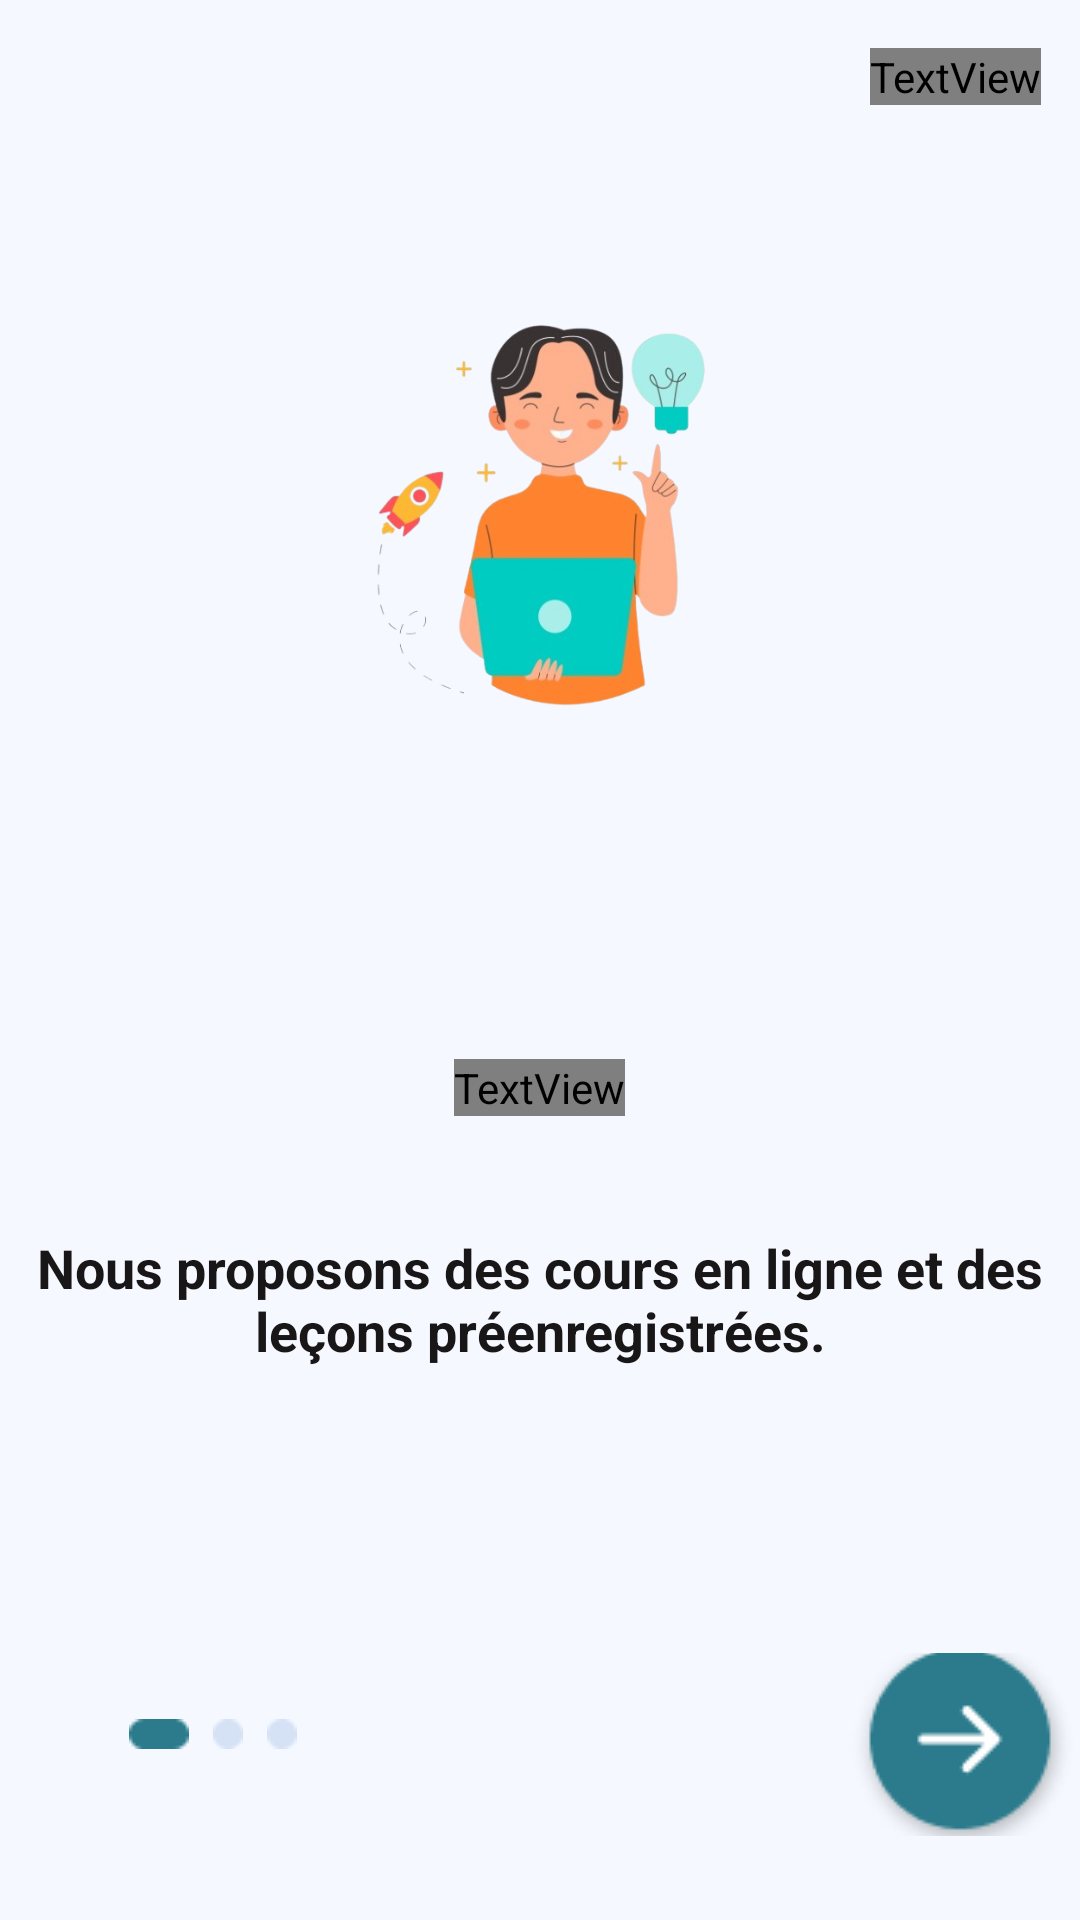

Icons on this 1080*1920 Android screen, each with its box as (x1, y1, x2, y2):
next: (869, 1653, 1057, 1836)
